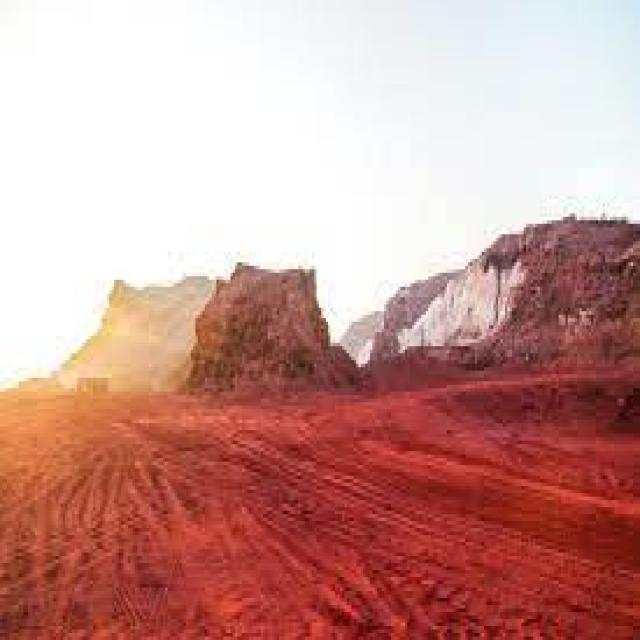Red Soil: (31, 425, 547, 640), (567, 252, 635, 561)
